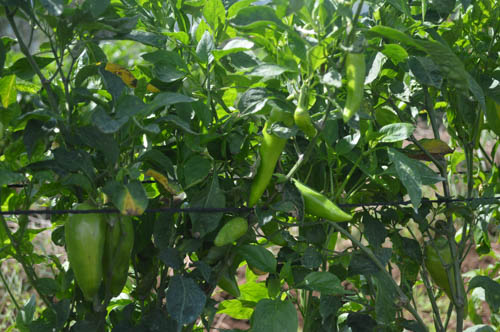ChiliPepper: (64, 204, 103, 298), (249, 123, 283, 216), (105, 215, 136, 300), (292, 185, 351, 226), (423, 246, 460, 307), (341, 54, 366, 128), (208, 216, 247, 251), (292, 116, 322, 141)
